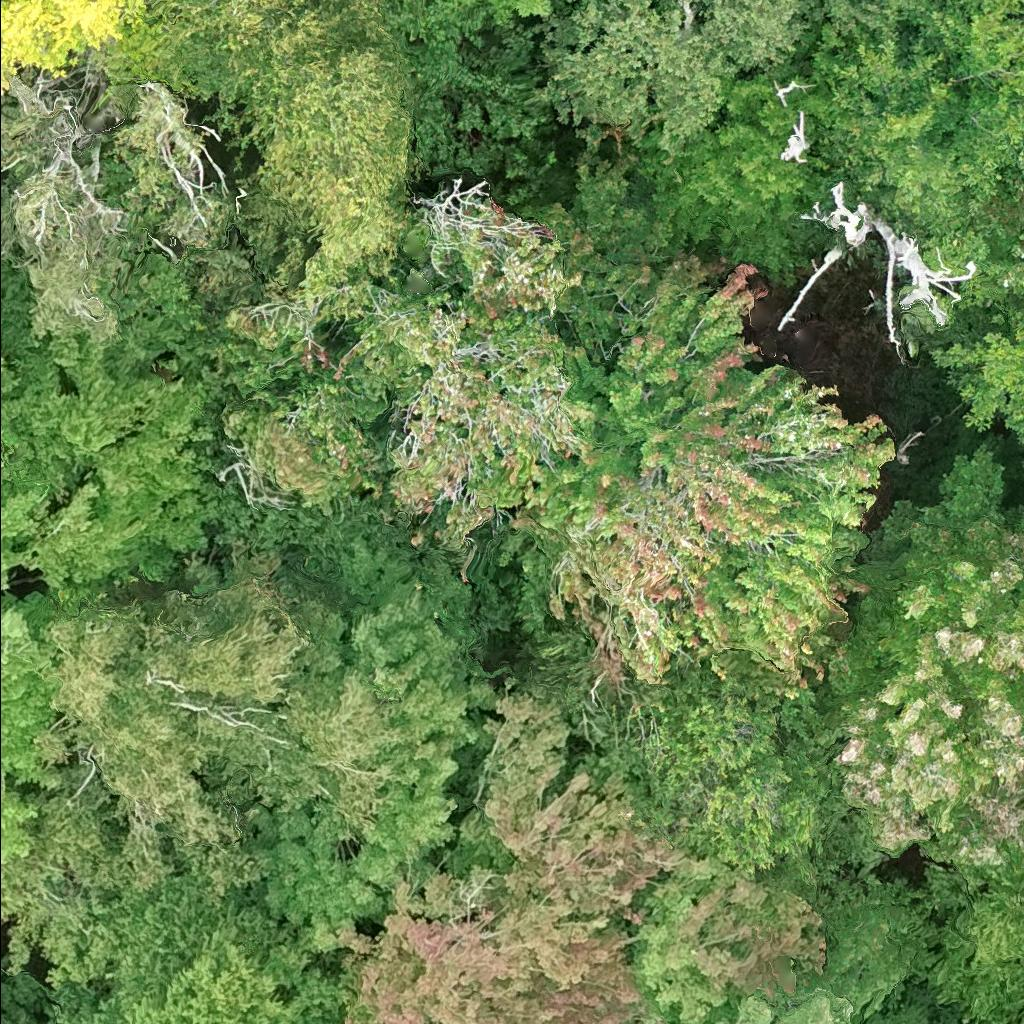crown: (0, 555, 411, 989), (520, 246, 900, 695), (225, 198, 595, 577), (336, 675, 686, 1023), (638, 0, 1023, 303), (107, 0, 418, 325), (246, 587, 502, 952), (819, 441, 1023, 870), (589, 665, 881, 904), (52, 843, 348, 1023), (0, 435, 148, 790), (539, 0, 885, 151), (631, 852, 856, 1023), (111, 83, 232, 252), (808, 869, 934, 1023), (914, 845, 1023, 1023), (11, 172, 118, 339), (0, 0, 148, 96), (932, 305, 1023, 447), (987, 149, 1023, 276), (0, 782, 40, 866), (462, 0, 577, 20), (646, 1022, 651, 1023)
